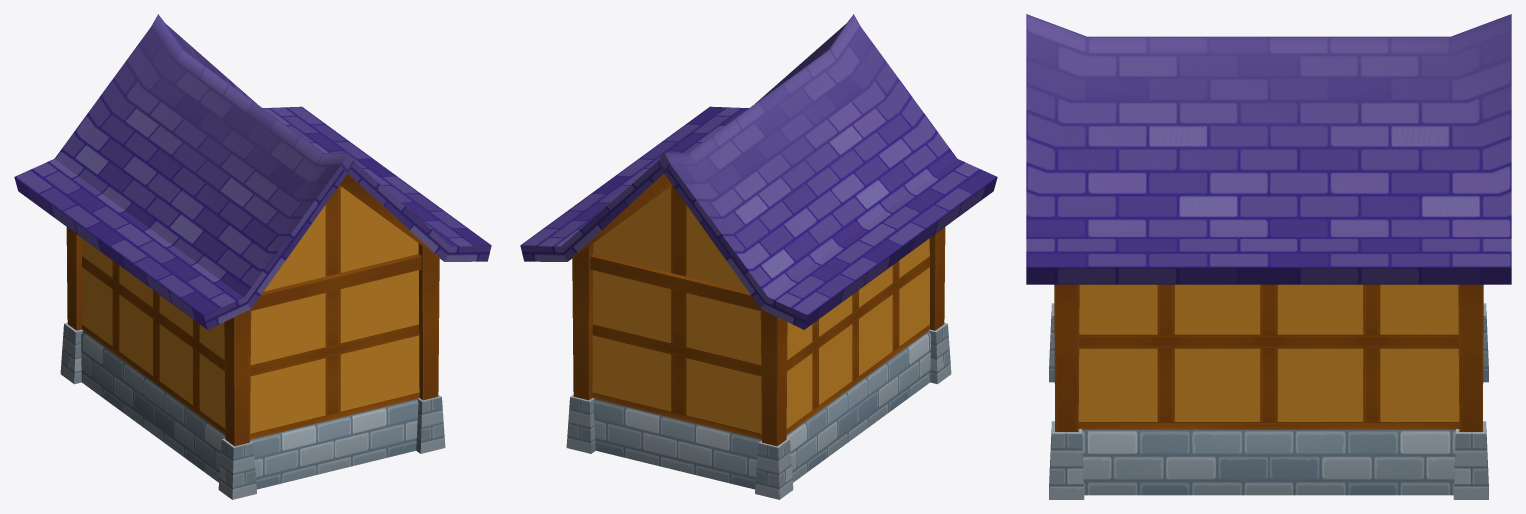
Rendered from BLD0710023.fbx.
3 renders of one model, left to right at view 1: azimuth 30°, elevation 25°; view 2: azimuth 150°, elevation 25°; view 3: azimuth 270°, elevation 25°, orthographic. The views are drawn at different scales.
Visible parts, largest first — view 1: smBLD0710023; view 2: smBLD0710023; view 3: smBLD0710023.
Part boxes in pixels (bbox=[...]): smBLD0710023: bbox=[14, 14, 491, 499]; smBLD0710023: bbox=[520, 14, 997, 499]; smBLD0710023: bbox=[1026, 14, 1511, 499].
Bounding box in the file's own units: 343 × 373 × 391.
Materials: 1 (1 with a texture image).
